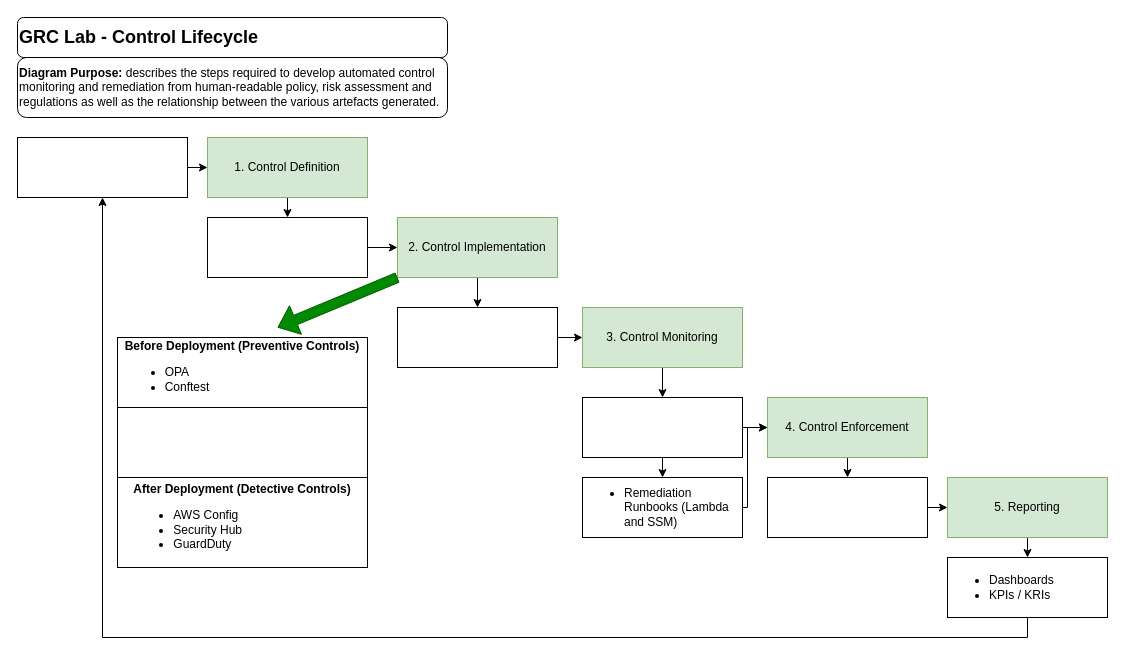
The diagram is 1125 pixels wide and 663 high, and some of its shapes have lost their labels. The box of each missing label's shape, as (x1, y1, x2, y2) in pixels:
At Deployment (Preventive Controls) SCPs: (116, 406, 368, 478)
Control Statements Control Specification: (206, 216, 368, 278)
IaC OPA Rules, SCPs Config Rules, Security Hub Checks: (396, 306, 558, 368)
Remediation data Audit Evidence: (766, 476, 928, 538)
Risk Assessment Threat Models External Regulations Internal Policy: (16, 136, 188, 198)
Risk exposure data Compliance status Alerts: (582, 396, 742, 458)
